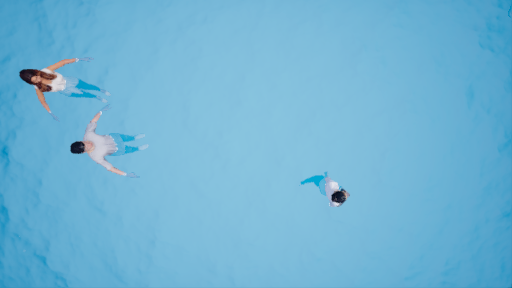person: (17, 53, 112, 109), (70, 113, 150, 177), (293, 161, 358, 212)
